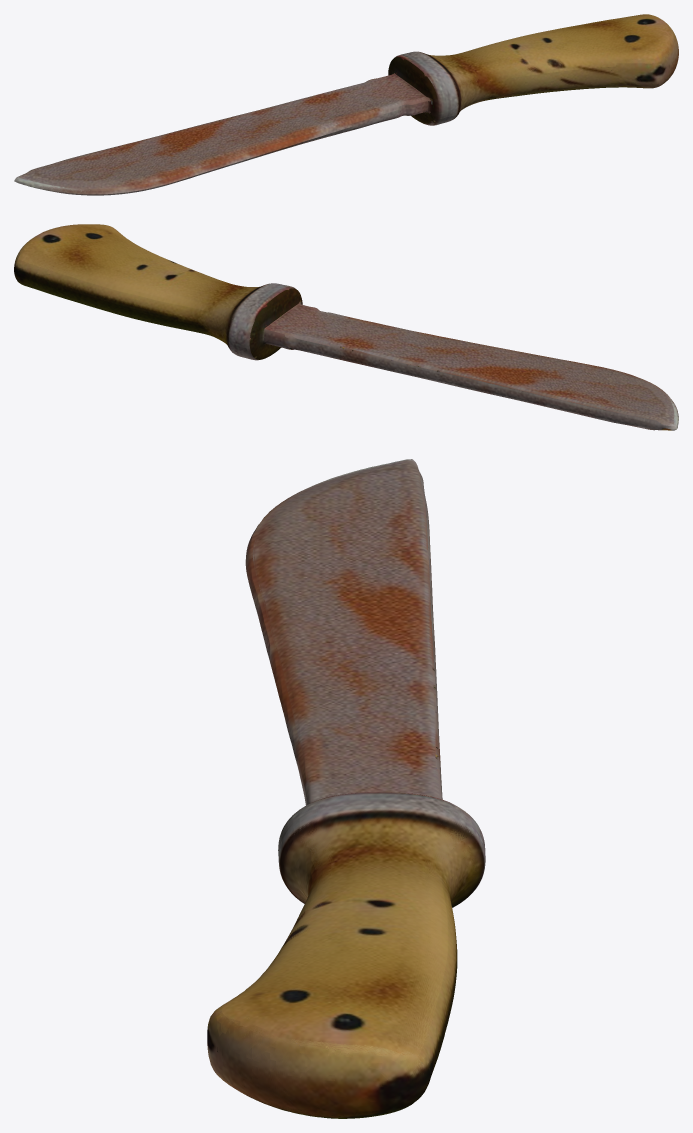
Rendered from source-27.glb.
3 views of the same model, one above another, from view 1: azimuth 30°, elevation 25°; view 2: azimuth 150°, elevation 25°; view 3: azimuth 270°, elevation 25° (orthographic). The views are drawn at different scales.
Visible parts, largest first — view 1: tmppu3o0ika.ply; view 2: tmppu3o0ika.ply; view 3: tmppu3o0ika.ply.
Part boxes in pixels (bbox=[...]): tmppu3o0ika.ply: bbox=[14, 14, 678, 195]; tmppu3o0ika.ply: bbox=[14, 224, 678, 430]; tmppu3o0ika.ply: bbox=[207, 459, 485, 1118].
Size of the model in its own units: 1.96 by 0.1631 by 0.3694.
Materials: 1 (1 with a texture image).
